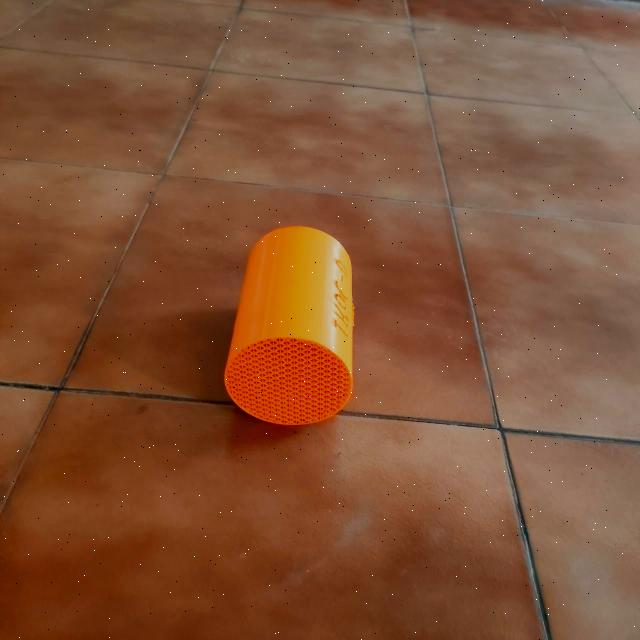Cylinder: (223, 224, 355, 426)
